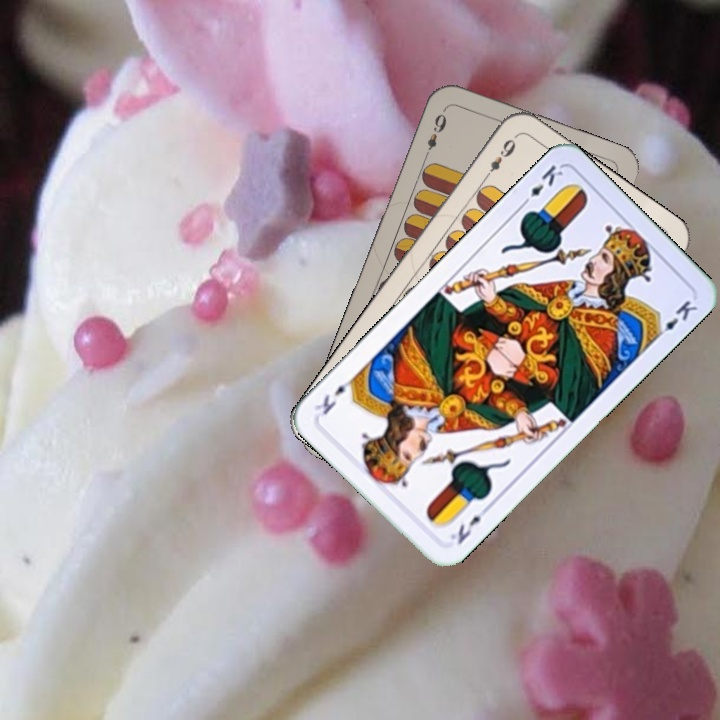E9: (479, 134, 519, 183), (420, 109, 450, 161)
EK: (516, 160, 566, 210), (446, 501, 493, 547)
